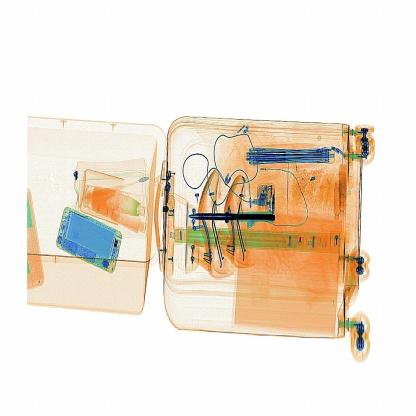gun: (181, 191, 282, 232)
